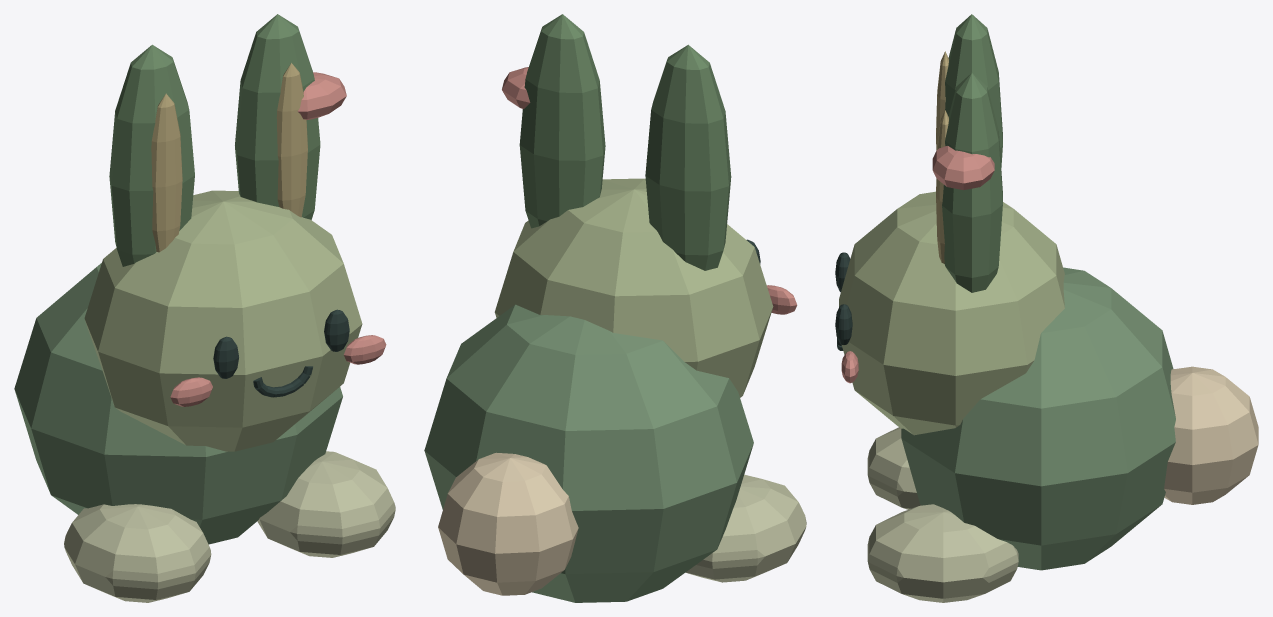
Rendered from mossbun.glb.
The picture shows the model from 3 angles, left to right: view 1: azimuth 30°, elevation 25°; view 2: azimuth 150°, elevation 25°; view 3: azimuth 270°, elevation 25°; orthographic projection. The views are drawn at different scales.
Visible parts, largest first — view 1: discovery_Head_Mesh, discovery_Motion_Mesh, discovery_Eyes_Mesh; view 2: discovery_Motion_Mesh, discovery_Head_Mesh; view 3: discovery_Motion_Mesh, discovery_Head_Mesh, discovery_Eyes_Mesh.
Part boxes in pixels (bbox=[...]): discovery_Head_Mesh: bbox=[84, 14, 386, 451]; discovery_Motion_Mesh: bbox=[14, 263, 395, 602]; discovery_Eyes_Mesh: bbox=[213, 309, 349, 378]; discovery_Motion_Mesh: bbox=[424, 304, 806, 602]; discovery_Head_Mesh: bbox=[494, 14, 797, 397]; discovery_Motion_Mesh: bbox=[867, 267, 1258, 602]; discovery_Head_Mesh: bbox=[837, 14, 1064, 435]; discovery_Eyes_Mesh: bbox=[835, 252, 852, 344].
Bounding box in the file's own units: 0.84 × 1.38 × 1.04.
